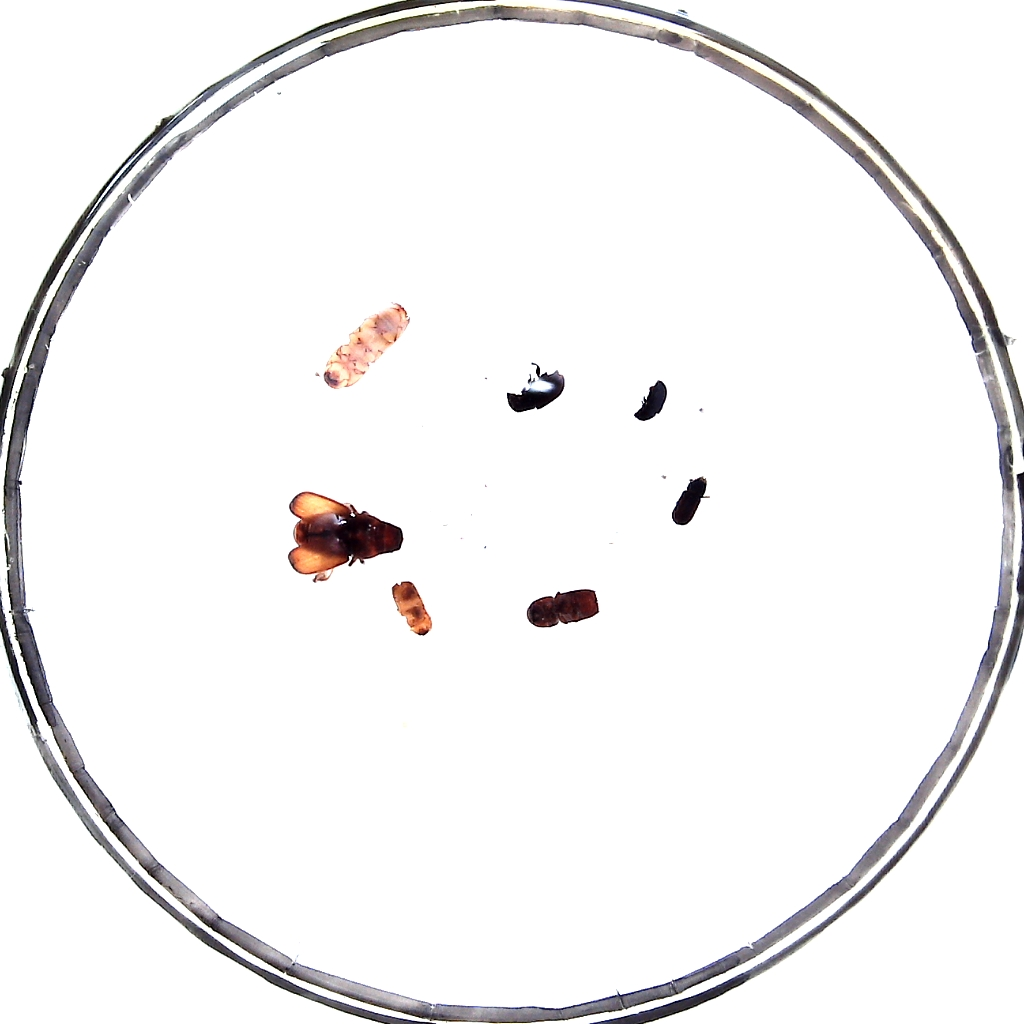Boerner: (323, 300, 411, 386)
Leconte: (285, 492, 405, 574)
Linnaeus: (526, 589, 600, 632)
acuminatus: (391, 580, 430, 635)
armandi: (500, 368, 565, 414)
coleoptera: (672, 475, 706, 527), (633, 381, 671, 421)
